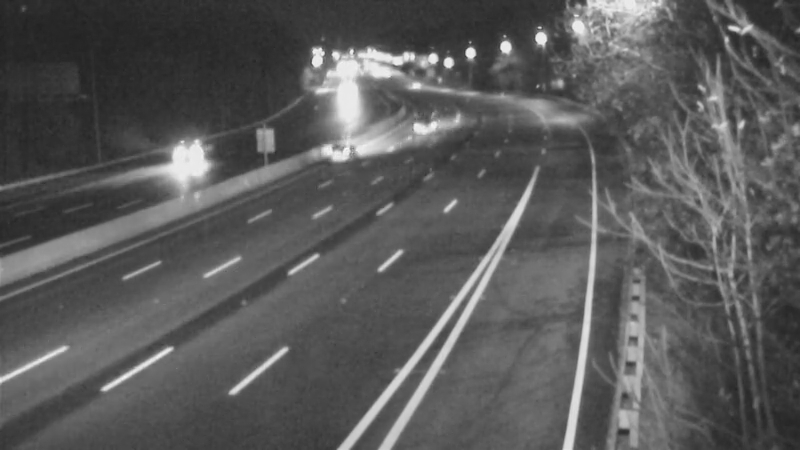vehicle: (300, 114, 380, 194), (142, 116, 222, 196), (384, 60, 434, 110), (396, 93, 446, 143), (319, 74, 369, 124)
